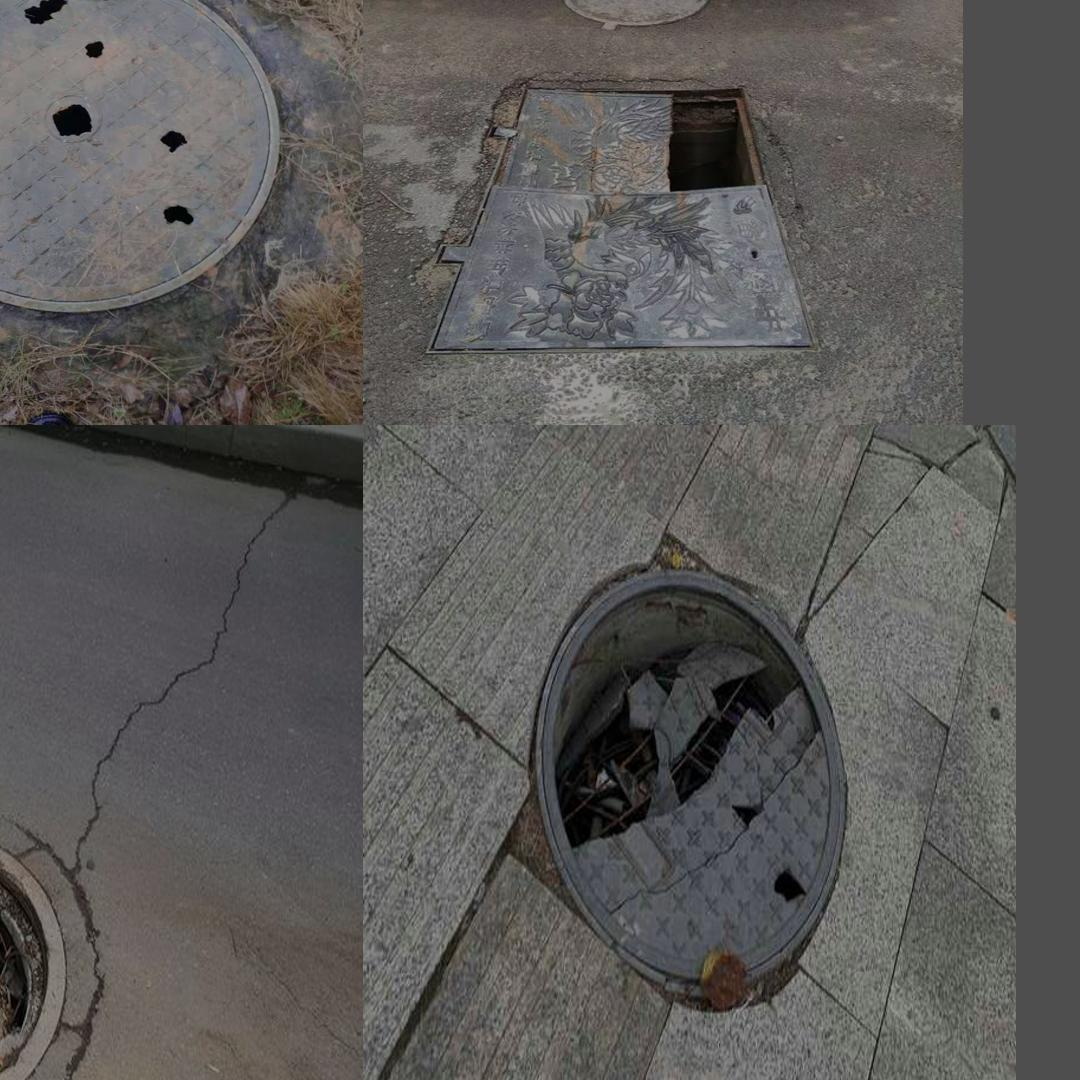broke: (526, 554, 859, 1020), (405, 57, 832, 374), (0, 0, 279, 313), (0, 781, 120, 1080)
